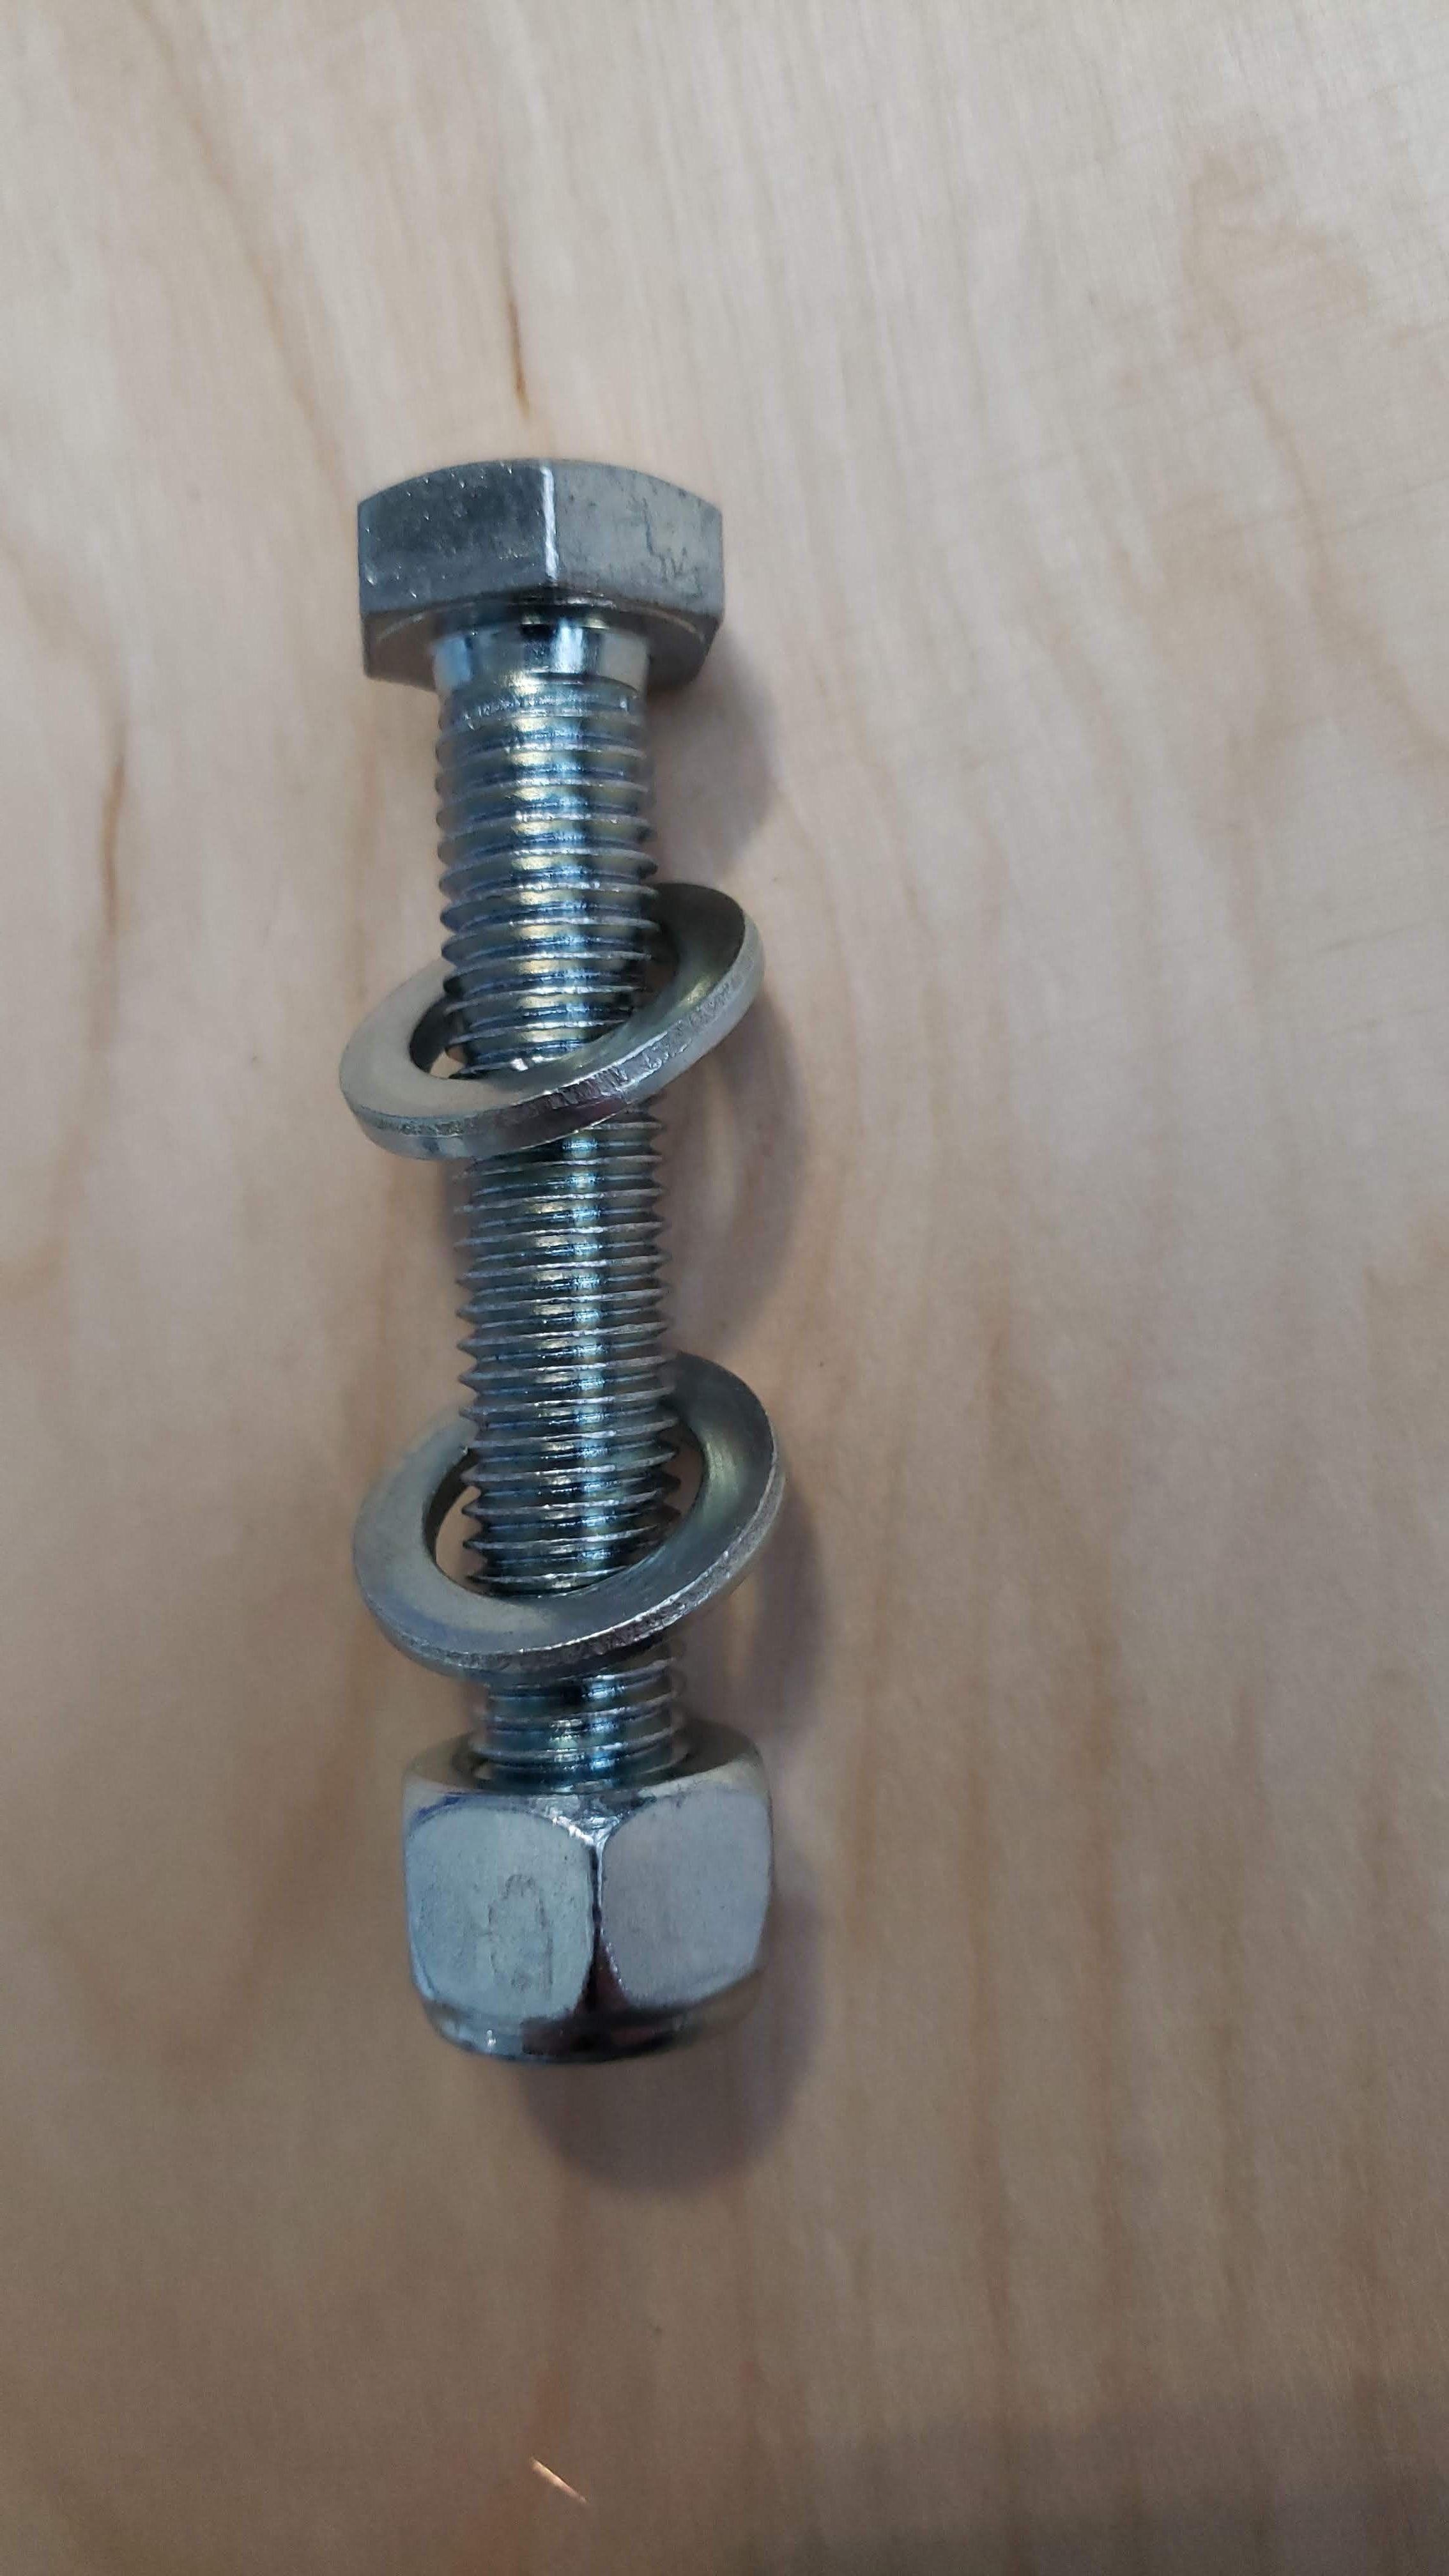FinishedAssembly: (223, 410, 934, 2300)
